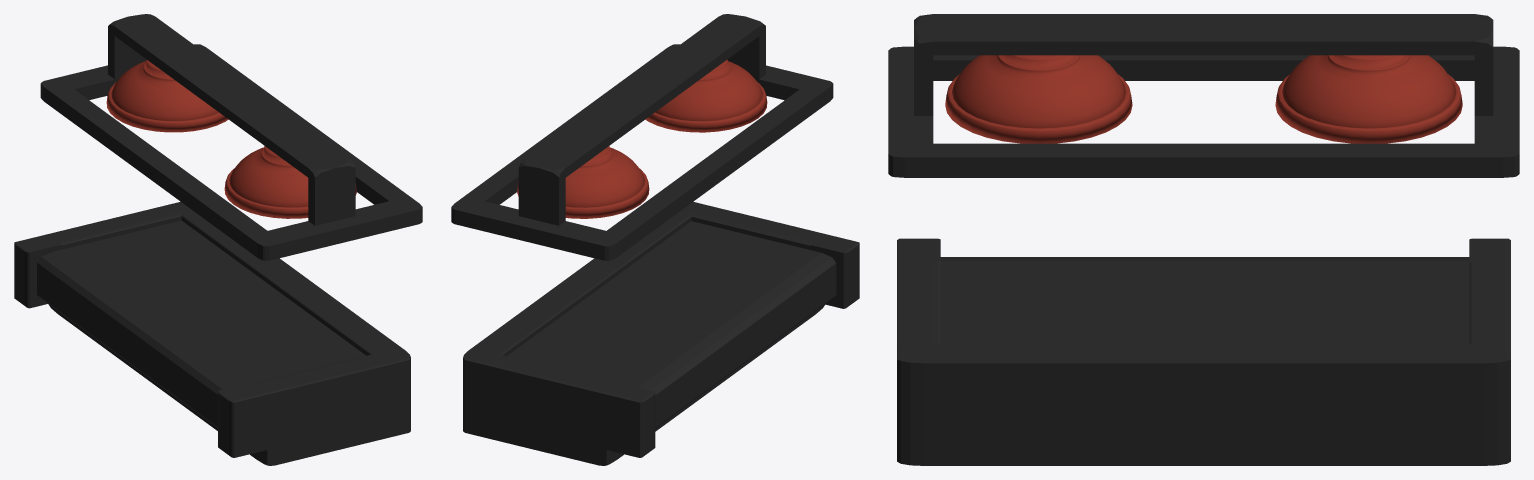
The model's file is M6BO_Model_MealReady.fbx.
3 renders of one model, left to right at view 1: azimuth 30°, elevation 25°; view 2: azimuth 150°, elevation 25°; view 3: azimuth 270°, elevation 25°, orthographic. The views are drawn at different scales.
Visible parts, largest first — view 1: Band; view 2: Band; view 3: Band.
Part boxes in pixels (x1,y1,x2,y2): Band: (14,14,422,465); Band: (451,14,859,465); Band: (888,14,1519,465).
Bounding box in the file's own units: 309 × 429 × 634.
